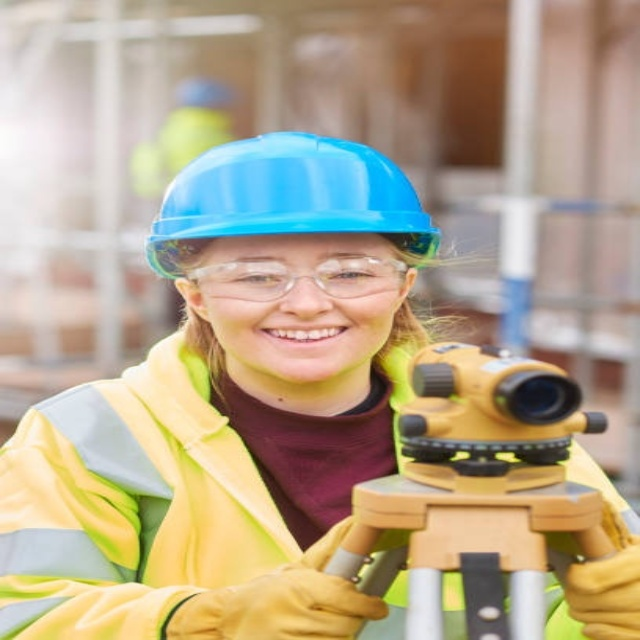Gafas: (177, 257, 406, 298)
Guantes: (172, 563, 391, 640), (561, 533, 639, 639)
Sin_mascara: (246, 317, 361, 376)
